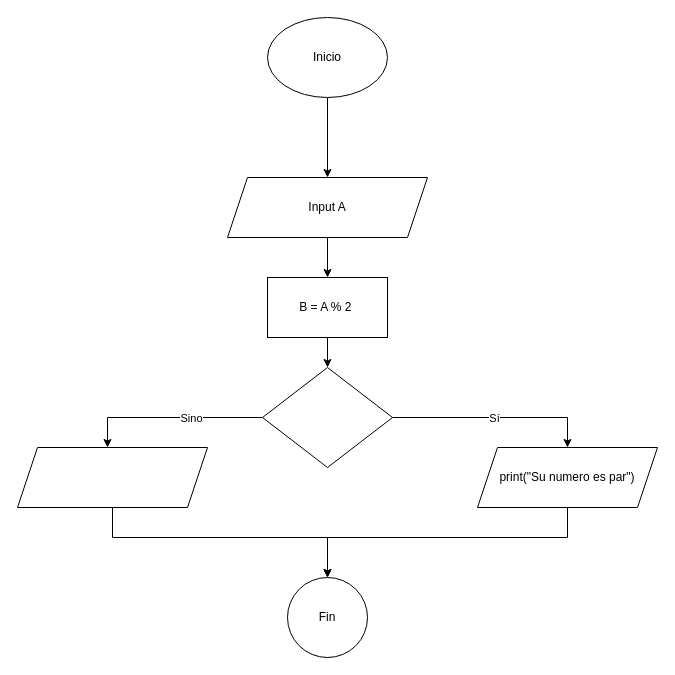
The diagram is 675 pixels wide and 675 high, and some of its shapes have lost their labels. Here are the shapes that lost their labels. From the top down, the centre of each, then its label:
the point at 327,417: B = 0
the point at 112,477: print("Su numero es impar")
